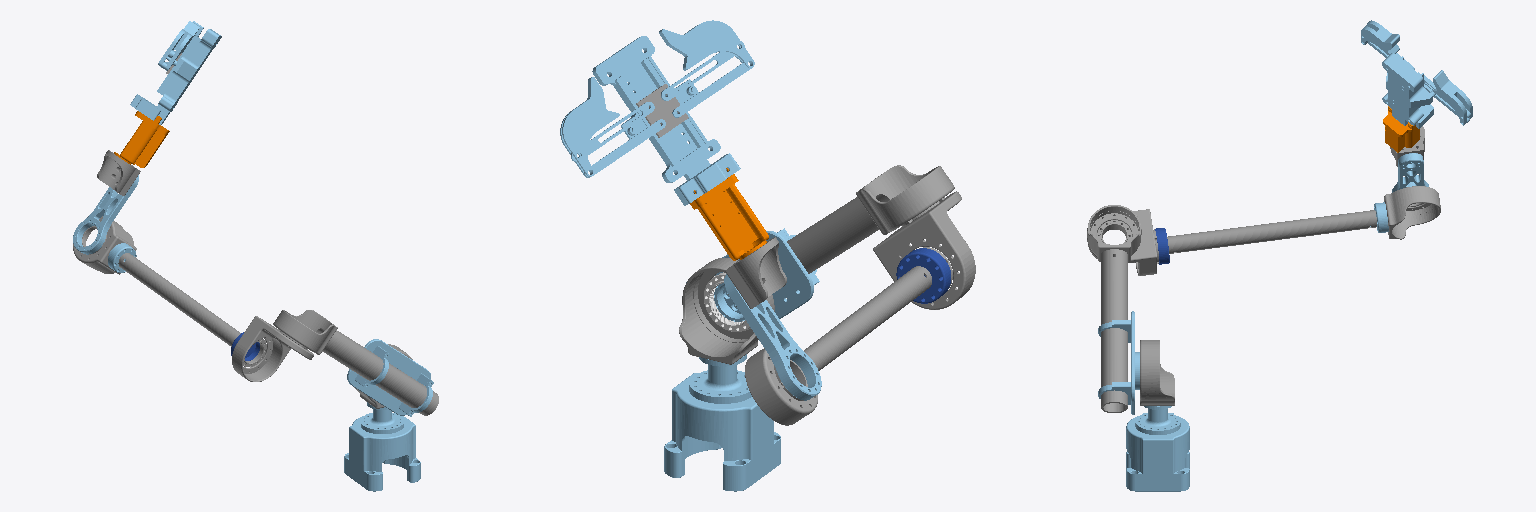
robot.urdf — urt_arm_collapsed:
<?xml version='1.0' encoding='utf-8'?>
<robot name="urt_arm_collapsed">
  <link name="root" />
  <link name="link4">
    <inertial>
      <mass value="0.673956728" />
      <origin xyz="0 0 0" rpy="0 0 0" />
      <inertia ixx="6.73956729e-05" ixy="0" ixz="0" iyy="6.73956729e-05" iyz="0" izz="6.73956729e-05" />
    </inertial>
    <visual>
      <origin xyz="-1.77092533e-13 0.00380104817 0.370000071" rpy="1.57079469 -4.68080571e-16 2.37764689e-16" />
      <geometry>
        <mesh filename="../meshes_onshape_rigid_stl/_0_FSA36_14__8300_1.stl" scale="1 1 1" />
      </geometry>
      <material name="0.203922_0.203922_0.203922_0.000000_0.000000">
        <color rgba="0.203922 0.203922 0.203922 1" />
      </material>
    </visual>
    <visual>
      <origin xyz="-1.75516381e-13 0.00380104817 0.370000071" rpy="1.57079469 -1.08834247e-15 -1.51781951e-17" />
      <geometry>
        <mesh filename="../meshes_onshape_rigid_stl/FSA36_14_Rotor.stl" scale="1 1 1" />
      </geometry>
      <material name="0.666667_0.666667_0.666667_0.000000_0.000000">
        <color rgba="0.666667 0.666667 0.666667 1" />
      </material>
    </visual>
    <visual>
      <origin xyz="-3.37662193e-16 8.35880785e-07 0.33" rpy="-5.30717959e-06 -7.7127432e-16 2.80780411e-16" />
      <geometry>
        <mesh filename="../meshes_onshape_rigid_stl/FSA36_Bracket.stl" scale="1 1 1" />
      </geometry>
      <material name="0.658824_0.658824_0.658824_0.000000_0.000000">
        <color rgba="0.658824 0.658824 0.658824 1" />
      </material>
    </visual>
    <visual>
      <origin xyz="-9.12098809e-18 -3.29994833e-17 -3.46944695e-18" rpy="8.32667268e-17 -1.46943276e-17 1.15960716e-16" />
      <geometry>
        <mesh filename="../meshes_onshape_rigid_stl/Part_1.stl" scale="1 1 1" />
      </geometry>
      <material name="0.231373_0.380392_0.705882_0.000000_0.000000">
        <color rgba="0.231373 0.380392 0.705882 1" />
      </material>
    </visual>
    <visual>
      <origin xyz="-1.75544947e-16 7.96076938e-07 0.315" rpy="3.14159 -4.71434822e-16 -1.02701898e-16" />
      <geometry>
        <mesh filename="../meshes_onshape_rigid_stl/Part_1_1.stl" scale="1 1 1" />
      </geometry>
      <material name="0.647059_0.647059_0.647059_0.000000_0.000000">
        <color rgba="0.647059 0.647059 0.647059 1" />
      </material>
    </visual>
    <visual>
      <origin xyz="-2.99583492e-16 8.35880785e-07 0.33" rpy="3.14159 -7.10975739e-16 2.72225378e-16" />
      <geometry>
        <mesh filename="../meshes_onshape_rigid_stl/Part_1_2.stl" scale="1 1 1" />
      </geometry>
      <material name="0.615686_0.811765_0.929412_0.000000_0.000000">
        <color rgba="0.615686 0.811765 0.929412 1" />
      </material>
    </visual>
  </link>
  <link name="link2">
    <inertial>
      <mass value="1.07297765" />
      <origin xyz="0 0 0" rpy="0 0 0" />
      <inertia ixx="0.000107297765" ixy="0" ixz="0" iyy="0.000107297765" iyz="0" izz="0.000107297765" />
    </inertial>
    <visual>
      <origin xyz="0.145830223 0.0410006661 -0.167491301" rpy="-3.14158968 -0.87266602 -3.14158694" />
      <geometry>
        <mesh filename="../meshes_onshape_rigid_stl/_0_FSA36_14__8300_1.stl" scale="1 1 1" />
      </geometry>
      <material name="0.203922_0.203922_0.203922_0.000000_0.000000">
        <color rgba="0.203922 0.203922 0.203922 1" />
      </material>
    </visual>
    <visual>
      <origin xyz="0.145830223 0.0410006661 -0.167491301" rpy="-3.14159246 0.87266602 9.84273507e-06" />
      <geometry>
        <mesh filename="../meshes_onshape_rigid_stl/FSA36_14_Rotor.stl" scale="1 1 1" />
      </geometry>
      <material name="0.666667_0.666667_0.666667_0.000000_0.000000">
        <color rgba="0.666667 0.666667 0.666667 1" />
      </material>
    </visual>
    <visual>
      <origin xyz="0.117207627 0.0410004141 -0.139292112" rpy="2.44345867 -4.52749547e-07 1.5708015" />
      <geometry>
        <mesh filename="../meshes_onshape_rigid_stl/FSA36_Bracket_1.stl" scale="1 1 1" />
      </geometry>
      <material name="0.658824_0.658824_0.658824_0.000000_0.000000">
        <color rgba="0.658824 0.658824 0.658824 1" />
      </material>
    </visual>
    <visual>
      <origin xyz="0.00308641571 0.0169999747 -0.00268855385" rpy="-1.5708 0.872665 1.12268077e-15" />
      <geometry>
        <mesh filename="../meshes_onshape_rigid_stl/Part_1_3.stl" scale="1 1 1" />
      </geometry>
      <material name="0.615686_0.811765_0.929412_0.000000_0.000000">
        <color rgba="0.615686 0.811765 0.929412 1" />
      </material>
    </visual>
    <visual>
      <origin xyz="-0.0255140956 0.0409999732 0.030750465" rpy="1.57079941 0.698132346 -3.14158786" />
      <geometry>
        <mesh filename="../meshes_onshape_rigid_stl/Part_1_4.stl" scale="1 1 1" />
      </geometry>
      <material name="0.615686_0.811765_0.929412_0.000000_0.000000">
        <color rgba="0.615686 0.811765 0.929412 1" />
      </material>
    </visual>
    <visual>
      <origin xyz="0.117207627 0.0410004141 -0.139292112" rpy="-0.698131327 -4.52749547e-07 1.5708015" />
      <geometry>
        <mesh filename="../meshes_onshape_rigid_stl/Part_1_5.stl" scale="1 1 1" />
      </geometry>
      <material name="0.647059_0.647059_0.647059_0.000000_0.000000">
        <color rgba="0.647059 0.647059 0.647059 1" />
      </material>
    </visual>
    <visual>
      <origin xyz="0.0375020105 0.0409999733 -0.0443025619" rpy="1.57079941 0.698127654 -3.14158786" />
      <geometry>
        <mesh filename="../meshes_onshape_rigid_stl/Part_1_4.stl" scale="1 1 1" />
      </geometry>
      <material name="0.615686_0.811765_0.929412_0.000000_0.000000">
        <color rgba="0.615686 0.811765 0.929412 1" />
      </material>
    </visual>
    <visual>
      <origin xyz="-0.0226365041 0.0169999746 0.0279435157" rpy="-1.57079941 -0.698135 4.79504199e-06" />
      <geometry>
        <mesh filename="../meshes_onshape_rigid_stl/Part_1_6.stl" scale="1 1 1" />
      </geometry>
      <material name="0.615686_0.811765_0.929412_0.000000_0.000000">
        <color rgba="0.615686 0.811765 0.929412 1" />
      </material>
    </visual>
    <visual>
      <origin xyz="-1.0134005e-17 0.012 -1.13276062e-18" rpy="-2.67605853e-23 3.8740487e-22 -9.1539167e-23" />
      <geometry>
        <mesh filename="../meshes_onshape_rigid_stl/Part_1_7.stl" scale="1 1 1" />
      </geometry>
      <material name="0.615686_0.811765_0.929412_0.000000_0.000000">
        <color rgba="0.615686 0.811765 0.929412 1" />
      </material>
    </visual>
    <visual>
      <origin xyz="0.0403796349 0.0169999748 -0.0471095797" rpy="1.57079941 0.698127654 -3.14158786" />
      <geometry>
        <mesh filename="../meshes_onshape_rigid_stl/Part_1_6.stl" scale="1 1 1" />
      </geometry>
      <material name="0.615686_0.811765_0.929412_0.000000_0.000000">
        <color rgba="0.615686 0.811765 0.929412 1" />
      </material>
    </visual>
  </link>
  <link name="link3">
    <inertial>
      <mass value="0.8236641" />
      <origin xyz="0 0 0" rpy="0 0 0" />
      <inertia ixx="8.236641e-05" ixy="0" ixz="0" iyy="8.236641e-05" iyz="0" izz="8.236641e-05" />
    </inertial>
    <visual>
      <origin xyz="0.0485000911 -0.0287 9.10954868e-08" rpy="-3.14159265 1.57079265 1.57079265" />
      <geometry>
        <mesh filename="../meshes_onshape_rigid_stl/_0_FSA36_14__8300_1.stl" scale="1 1 1" />
      </geometry>
      <material name="0.203922_0.203922_0.203922_0.000000_0.000000">
        <color rgba="0.203922 0.203922 0.203922 1" />
      </material>
    </visual>
    <visual>
      <origin xyz="0.0485000911 -0.0287 9.1095485e-08" rpy="3.14159265 1.57079265 1.57079265" />
      <geometry>
        <mesh filename="../meshes_onshape_rigid_stl/FSA36_14_Rotor.stl" scale="1 1 1" />
      </geometry>
      <material name="0.666667_0.666667_0.666667_0.000000_0.000000">
        <color rgba="0.666667 0.666667 0.666667 1" />
      </material>
    </visual>
    <visual>
      <origin xyz="0.0485 -0.0295 7.37592997e-18" rpy="6.24500451e-17 4.06837336e-17 7.17436906e-18" />
      <geometry>
        <mesh filename="../meshes_onshape_rigid_stl/Part_1_9.stl" scale="1 1 1" />
      </geometry>
      <material name="0.658824_0.658824_0.658824_0.000000_0.000000">
        <color rgba="0.658824 0.658824 0.658824 1" />
      </material>
    </visual>
  </link>
  <link name="base_link">
    <inertial>
      <mass value="1.2921161" />
      <origin xyz="0 0 0" rpy="0 0 0" />
      <inertia ixx="0.00012921161" ixy="0" ixz="0" iyy="0.00012921161" iyz="0" izz="0.00012921161" />
    </inertial>
    <visual>
      <origin xyz="-1.09325918e-14 8.94385516e-12 0.0438" rpy="0 -0 1.5708" />
      <geometry>
        <mesh filename="../meshes_onshape_rigid_stl/_0_FSA60_17_____1.stl" scale="1 1 1" />
      </geometry>
      <material name="0.274510_0.274510_0.274510_0.000000_0.000000">
        <color rgba="0.27451 0.27451 0.27451 1" />
      </material>
    </visual>
    <visual>
      <origin xyz="-4.37430181e-11 6.47922945e-11 0" rpy="0 -0 1.5708" />
      <geometry>
        <mesh filename="../meshes_onshape_rigid_stl/FSA60_17_Base.stl" scale="1 1 1" />
      </geometry>
      <material name="0.615686_0.811765_0.929412_0.000000_0.000000">
        <color rgba="0.615686 0.811765 0.929412 1" />
      </material>
    </visual>
    <visual>
      <origin xyz="-1.47668613e-14 8.94373512e-12 0.0438" rpy="0 -0 1.5708" />
      <geometry>
        <mesh filename="../meshes_onshape_rigid_stl/Rotor.stl" scale="1 1 1" />
      </geometry>
      <material name="0.917647_0.917647_0.917647_0.000000_0.000000">
        <color rgba="0.917647 0.917647 0.917647 1" />
      </material>
    </visual>
  </link>
  <link name="link1">
    <inertial>
      <mass value="1.1616267" />
      <origin xyz="0 0 0" rpy="0 0 0" />
      <inertia ixx="0.00011616267" ixy="0" ixz="0" iyy="0.00011616267" iyz="0" izz="0.00011616267" />
    </inertial>
    <visual>
      <origin xyz="-0.0197 -7.23625023e-08 0.0840001495" rpy="1.5708 -5.63764877e-22 1.5708" />
      <geometry>
        <mesh filename="../meshes_onshape_rigid_stl/_0_FSA60_17_____1.stl" scale="1 1 1" />
      </geometry>
      <material name="0.274510_0.274510_0.274510_0.000000_0.000000">
        <color rgba="0.27451 0.27451 0.27451 1" />
      </material>
    </visual>
    <visual>
      <origin xyz="7.97972042e-17 2.21946677e-17 0.039" rpy="-8.15367e-21 -9.10099e-23 1.5708" />
      <geometry>
        <mesh filename="../meshes_onshape_rigid_stl/FSA60_17_Mount.stl" scale="1 1 1" />
      </geometry>
      <material name="0.647059_0.647059_0.647059_0.000000_0.000000">
        <color rgba="0.647059 0.647059 0.647059 1" />
      </material>
    </visual>
    <visual>
      <origin xyz="-4.6169318e-28 1.37773e-18 2.8749407e-33" rpy="-1.22815627e-38 -2.45166695e-39 -3.09060472e-44" />
      <geometry>
        <mesh filename="../meshes_onshape_rigid_stl/FSA60_17_Rotor__Mount.stl" scale="1 1 1" />
      </geometry>
      <material name="0.615686_0.811765_0.929412_0.000000_0.000000">
        <color rgba="0.615686 0.811765 0.929412 1" />
      </material>
    </visual>
    <visual>
      <origin xyz="-0.0197 -7.23625024e-08 0.0840001495" rpy="1.5708 -1.559583e-22 1.5708" />
      <geometry>
        <mesh filename="../meshes_onshape_rigid_stl/Rotor.stl" scale="1 1 1" />
      </geometry>
      <material name="0.917647_0.917647_0.917647_0.000000_0.000000">
        <color rgba="0.917647 0.917647 0.917647 1" />
      </material>
    </visual>
  </link>
  <link name="link6">
    <inertial>
      <mass value="0.00033959712" />
      <origin xyz="0 0 0" rpy="0 0 0" />
      <inertia ixx="1e-06" ixy="0" ixz="0" iyy="1e-06" iyz="0" izz="1e-06" />
    </inertial>
    <visual>
      <origin xyz="-0.0126001059 -0.165783489 0.0022816459" rpy="2.34063371e-06 0.348012654 -6.56103735e-06" />
      <geometry>
        <mesh filename="../meshes_onshape_rigid_stl/Block.stl" scale="1 1 1" />
      </geometry>
      <material name="0.647059_0.647059_0.647059_0.000000_0.000000">
        <color rgba="0.647059 0.647059 0.647059 1" />
      </material>
    </visual>
    <visual>
      <origin xyz="0.0420818057 -0.156093429 0.0856886369" rpy="3.14159 1.22278735 3.14159" />
      <geometry>
        <mesh filename="../meshes_onshape_rigid_stl/Gripper.stl" scale="1 1 1" />
      </geometry>
      <material name="0.615686_0.811765_0.929412_0.000000_0.000000">
        <color rgba="0.615686 0.811765 0.929412 1" />
      </material>
    </visual>
    <visual>
      <origin xyz="-0.00554077611 -0.156091703 -0.0985130176" rpy="-7.34653534e-06 -1.22278735 -2.65347105e-06" />
      <geometry>
        <mesh filename="../meshes_onshape_rigid_stl/Gripper.stl" scale="1 1 1" />
      </geometry>
      <material name="0.615686_0.811765_0.929412_0.000000_0.000000">
        <color rgba="0.615686 0.811765 0.929412 1" />
      </material>
    </visual>
    <visual>
      <origin xyz="0.0118246819 -0.176091929 -0.0154562385" rpy="1.91881265 -3.45299224e-06 1.57079242" />
      <geometry>
        <mesh filename="../meshes_onshape_rigid_stl/Linkage_Connector.stl" scale="1 1 1" />
      </geometry>
      <material name="0.615686_0.811765_0.929412_0.000000_0.000000">
        <color rgba="0.615686 0.811765 0.929412 1" />
      </material>
    </visual>
    <visual>
      <origin xyz="0.0191227346 -0.176093027 0.00466087931" rpy="-1.91881265 9.47643981e-07 -1.57080714" />
      <geometry>
        <mesh filename="../meshes_onshape_rigid_stl/Linkage_Connector.stl" scale="1 1 1" />
      </geometry>
      <material name="0.615686_0.811765_0.929412_0.000000_0.000000">
        <color rgba="0.615686 0.811765 0.929412 1" />
      </material>
    </visual>
    <visual>
      <origin xyz="0.0178061822 -0.156092033 -0.0165623036" rpy="1.22278735 9.47643977e-07 -1.57080714" />
      <geometry>
        <mesh filename="../meshes_onshape_rigid_stl/Linkage_No_Connector.stl" scale="1 1 1" />
      </geometry>
      <material name="0.615686_0.811765_0.929412_0.000000_0.000000">
        <color rgba="0.615686 0.811765 0.929412 1" />
      </material>
    </visual>
    <visual>
      <origin xyz="0.0244221715 -0.156093038 0.00167471058" rpy="-1.22278735 -3.45299227e-06 1.57079242" />
      <geometry>
        <mesh filename="../meshes_onshape_rigid_stl/Linkage_No_Connector.stl" scale="1 1 1" />
      </geometry>
      <material name="0.615686_0.811765_0.929412_0.000000_0.000000">
        <color rgba="0.615686 0.811765 0.929412 1" />
      </material>
    </visual>
    <visual>
      <origin xyz="0.0139779589 -0.236179132 -0.0051210112" rpy="1.5708 1.22278 3.14159" />
      <geometry>
        <mesh filename="../meshes_onshape_rigid_stl/Main_Body.stl" scale="1 1 1" />
      </geometry>
      <material name="0.615686_0.811765_0.929412_0.000000_0.000000">
        <color rgba="0.615686 0.811765 0.929412 1" />
      </material>
    </visual>
    <visual>
      <origin xyz="-4.36666706e-17 -0.0877 -2.85314405e-17" rpy="3.14159 1.22262 3.14159" />
      <geometry>
        <mesh filename="../meshes_onshape_rigid_stl/Part_1_8.stl" scale="1 1 1" />
      </geometry>
      <material name="0.972549_0.529412_0.003922_0.000000_0.000000">
        <color rgba="0.972549 0.529412 0.00392157 1" />
      </material>
    </visual>
  </link>
  <link name="link5">
    <inertial>
      <mass value="0.24837018" />
      <origin xyz="0 0 0" rpy="0 0 0" />
      <inertia ixx="2.4837018e-05" ixy="0" ixz="0" iyy="2.4837018e-05" iyz="0" izz="2.4837018e-05" />
    </inertial>
    <visual>
      <origin xyz="-0.119500029 0.0404999674 -1.04686345e-07" rpy="-3.14159265 -1.57079265 1.57079735" />
      <geometry>
        <mesh filename="../meshes_onshape_rigid_stl/FSA25_Mount.stl" scale="1 1 1" />
      </geometry>
      <material name="0.647059_0.647059_0.647059_0.000000_0.000000">
        <color rgba="0.647059 0.647059 0.647059 1" />
      </material>
    </visual>
    <visual>
      <origin xyz="-0.0813501031 0.0496056875 0.0176498028" rpy="0.04365 3.67097808e-06 -3.14159164" />
      <geometry>
        <mesh filename="../meshes_onshape_rigid_stl/GBT_819_1_2016__4_0001_1.stl" scale="1 1 1" />
      </geometry>
      <material name="0.000000_0.000000_0.000000_0.000000_0.000000">
        <color rgba="0 0 0 1" />
      </material>
    </visual>
    <visual>
      <origin xyz="-0.1 0.012 -2.6008759e-19" rpy="-2.08166817e-17 3.48977574e-17 1.54481022e-16" />
      <geometry>
        <mesh filename="../meshes_onshape_rigid_stl/L5.stl" scale="1 1 1" />
      </geometry>
      <material name="0.615686_0.811765_0.929412_0.000000_0.000000">
        <color rgba="0.615686 0.811765 0.929412 1" />
      </material>
    </visual>
    <visual>
      <origin xyz="-0.0779001031 0.0496056489 0.0176497673" rpy="0.04365 3.67097808e-06 -3.14159164" />
      <geometry>
        <mesh filename="../meshes_onshape_rigid_stl/M2H8_6_1.stl" scale="1 1 1" />
      </geometry>
      <material name="0.960784_0.960784_0.960784_0.000000_0.000000">
        <color rgba="0.960784 0.960784 0.960784 1" />
      </material>
    </visual>
    <visual>
      <origin xyz="-0.081349955 0.0313226036 -0.0176163075" rpy="-3.09794531 3.6732051e-06 -3.14159163" />
      <geometry>
        <mesh filename="../meshes_onshape_rigid_stl/Rotor_1.stl" scale="1 1 1" />
      </geometry>
      <material name="0.847059_0.847059_0.847059_0.000000_0.000000">
        <color rgba="0.847059 0.847059 0.847059 1" />
      </material>
    </visual>
  </link>
  <joint name="root_to_base" type="fixed">
    <parent link="root" />
    <child link="base_link" />
    <origin xyz="0 0 0" rpy="0 0 0" />
  </joint>
  <joint name="revolute_1" type="continuous">
    <origin xyz="-1.47654813e-14 8.94373478e-12 0.0845" rpy="-9.60991e-23 -3.21606e-22 -1.57079531" />
    <axis xyz="0 1.17549435e-38 -1" />
    <parent link="base_link" />
    <child link="link1" />
  </joint>
  <joint name="revolute_2" type="continuous">
    <origin xyz="0.021 7.71369453e-08 0.084" rpy="-0.78539449 -1.57079113 -0.78539449" />
    <axis xyz="0 -1 2.67605853e-23" />
    <parent link="link1" />
    <child link="link2" />
  </joint>
  <joint name="revolute_3" type="continuous">
    <origin xyz="0.121010354 0.041000428 -0.188317585" rpy="3.0006694 0.698133944 -3.14158374" />
    <axis xyz="-1 -2.77555756e-17 -2.77555756e-16" />
    <parent link="link2" />
    <child link="link3" />
  </joint>
  <joint name="revolute_4" type="continuous">
    <origin xyz="0.0484999721 -0.0611 -2.79163606e-08" rpy="-1.5708 -3.6732051e-06 3.14158898" />
    <axis xyz="-1.38777878e-17 -8.32667268e-17 -1" />
    <parent link="link3" />
    <child link="link4" />
  </joint>
  <joint name="revolute_5" type="continuous">
    <origin xyz="-1.74638573e-13 -0.0285989518 0.370000124" rpy="5.30717959e-06 -2.65358979e-06 3.14159265" />
    <axis xyz="-1.66533454e-16 -1 2.08166817e-17" />
    <parent link="link4" />
    <child link="link5" />
  </joint>
  <joint name="revolute_6" type="continuous">
    <origin xyz="-0.118800029 0.0404281961 3.33587926e-05" rpy="3.14158558 -0.523594 1.57079589" />
    <axis xyz="1.66533454e-16 1 1.11022302e-16" />
    <parent link="link5" />
    <child link="link6" />
  </joint>
</robot>

--- Render facts (derived) ---
3 views of the same robot in one strip: view 1: azimuth 30°, elevation 25°; view 2: azimuth 150°, elevation 25°; view 3: azimuth 270°, elevation 25° (orthographic).
Robot: urt_arm_collapsed — 8 links, 7 joints (6 continuous, 1 fixed); root link root; default pose: all joints at 0.
Links seen in each view (by area): view 1: link2, link6, link4, base_link, link5, link3, link1; view 2: link6, link2, link4, base_link, link1, link5, link3; view 3: link2, link4, link6, base_link, link1, link3, link5.
Link boxes in pixels (x1=…): link2: x1=273, y1=310, x2=438, y2=416; link6: x1=114, y1=21, x2=221, y2=167; link4: x1=73, y1=216, x2=259, y2=360; base_link: x1=344, y1=416, x2=420, y2=491; link5: x1=73, y1=150, x2=140, y2=254; link3: x1=232, y1=316, x2=313, y2=381; link1: x1=354, y1=344, x2=412, y2=433; link6: x1=560, y1=20, x2=768, y2=260; link2: x1=686, y1=165, x2=954, y2=327; link4: x1=745, y1=248, x2=950, y2=425; base_link: x1=664, y1=373, x2=780, y2=491; link1: x1=679, y1=258, x2=774, y2=403; link5: x1=724, y1=237, x2=821, y2=400; link3: x1=873, y1=191, x2=975, y2=309; link2: x1=1087, y1=205, x2=1141, y2=414; link4: x1=1155, y1=186, x2=1440, y2=264; link6: x1=1361, y1=20, x2=1472, y2=152; base_link: x1=1126, y1=413, x2=1189, y2=491; link1: x1=1135, y1=340, x2=1180, y2=434; link3: x1=1087, y1=209, x2=1158, y2=275; link5: x1=1390, y1=126, x2=1428, y2=192.
Bounding box of the posed robot: 0.3759 × 0.548 × 0.6391 m (x, y, z).
33 mesh visuals loaded from 29 distinct referenced files (25 binary STL); not drawn: 7 (reference not matched to a file when rendering).
